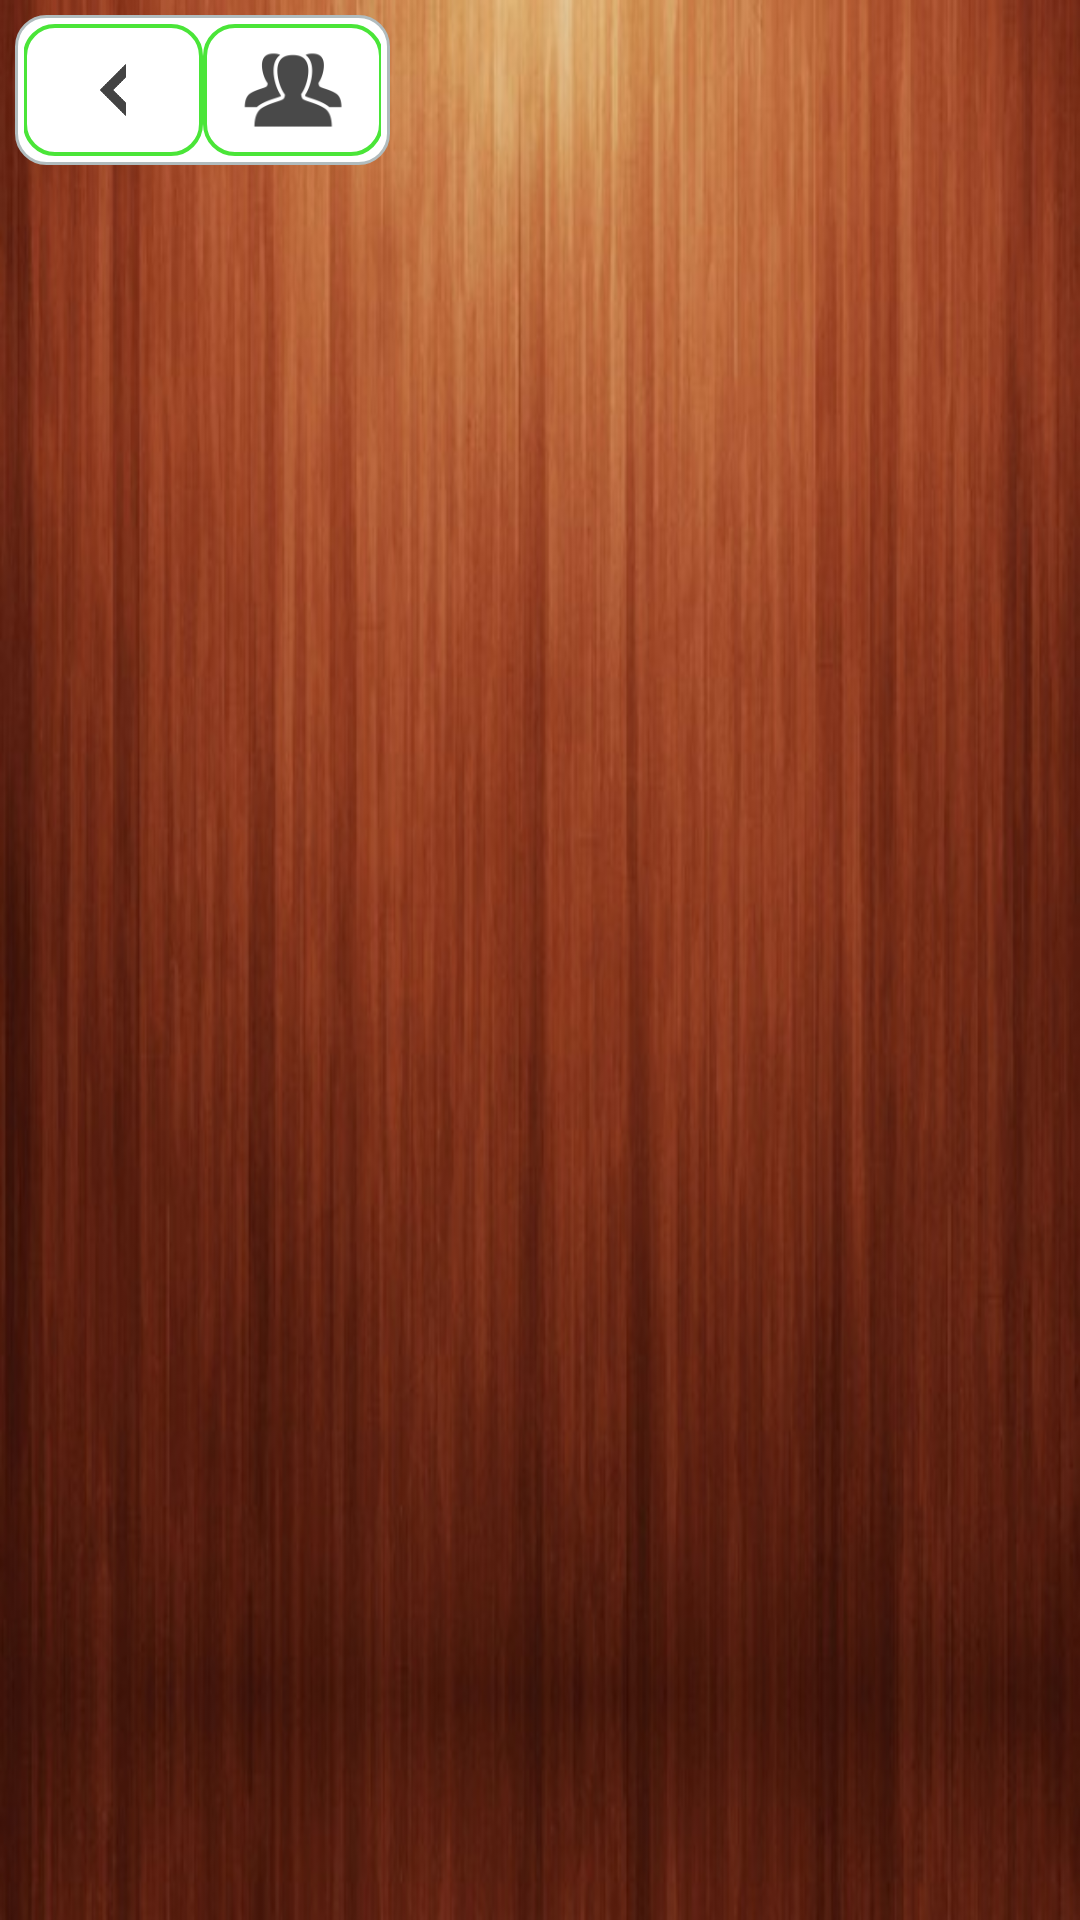

Icons on this 1080×1920 Android screen, each with its box as (left=x1, top=y1, right=x2, bottom=y2):
row back: (left=23, top=24, right=203, bottom=156)
team: (left=244, top=53, right=342, bottom=127)
